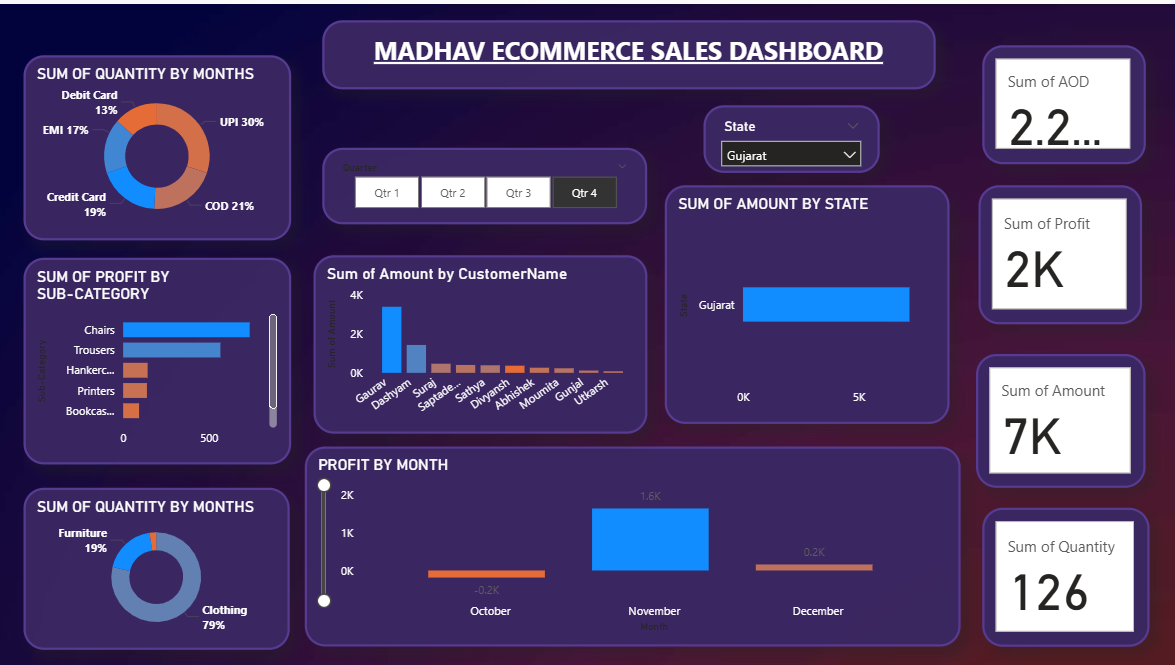

The page's visual inventory and layout, read from the dashboard file:
{"tool":"powerbi","page":{"name":"Page 1","canvas":[1280,720],"ordinal":0},"visuals":[{"type":"textbox","box":[362.3,17.8,660,74.1],"z":0},{"type":"columnChart","title":"PROFIT BY MONTH","fields":{"Category":["Orders(1).Order Date.Variation.Date Hierarchy.Month"],"Y":["details.Profit"]},"box":[343.1,476.2,705.3,215.4],"z":1000},{"type":"barChart","title":"SUM OF PROFIT BY SUB-CATEGORY","fields":{"Category":["details.Sub-Category"],"Y":["details.Profit"]},"box":[39.8,273.1,288.2,222.3],"z":2000},{"type":"donutChart","title":"SUM OF QUANTITY BY MONTHS","fields":{"Category":["details.Category"],"Y":["details.Quantity"]},"box":[39.8,520.1,286.8,174.3],"z":3000},{"type":"donutChart","title":"SUM OF QUANTITY BY MONTHS","fields":{"Category":["details.PaymentMode"],"Y":["details.Quantity"]},"box":[39.8,54.9,288.2,199],"z":4000},{"type":"cardVisual","fields":{"Data":["details.Amount"]},"box":[1064.8,376,182.5,144.1],"z":5000},{"type":"cardVisual","fields":{"Data":["details.Quantity"]},"box":[1071.7,542,179.8,149.6],"z":6000},{"type":"cardVisual","fields":{"Data":["details.Profit"]},"box":[1067.6,194.9,175.6,149.6],"z":7000},{"type":"cardVisual","fields":{"Data":["details.AOD"]},"box":[1071.7,43.9,175.6,127.6],"z":8000},{"type":"barChart","title":"SUM OF AMOUNT BY STATE","fields":{"Category":["Orders(1).State"],"Y":["details.Amount"]},"box":[730,194.9,306,256.6],"z":9000},{"type":"lineStackedColumnComboChart","fields":{"Category":["Orders(1).CustomerName"],"Y":["details.Amount"]},"box":[352.7,270.3,359.5,192.1],"z":10000},{"type":"slicer","fields":{"Values":["Orders(1).Order Date.Variation.Date Hierarchy.Quarter"]},"box":[362.3,155.1,349.9,82.3],"z":11000},{"type":"slicer","fields":{"Values":["Orders(1).State"]},"box":[772.6,108.4,189.4,72.7],"z":12000}]}

Visuals, with their boxes in screenshot pixels (x1, y1, x2, y2), scaled from the page's 1280x720 canvas onto the 1175x665 screenshot:
textbox: crop(333, 16, 938, 85)
"PROFIT BY MONTH" columnChart: crop(315, 440, 962, 639)
"SUM OF PROFIT BY SUB-CATEGORY" barChart: crop(37, 252, 301, 458)
"SUM OF QUANTITY BY MONTHS" donutChart: crop(37, 480, 300, 641)
"SUM OF QUANTITY BY MONTHS" donutChart: crop(37, 51, 301, 235)
cardVisual - details.Amount: crop(977, 347, 1145, 480)
cardVisual - details.Quantity: crop(984, 501, 1149, 639)
cardVisual - details.Profit: crop(980, 180, 1141, 318)
cardVisual - details.AOD: crop(984, 41, 1145, 158)
"SUM OF AMOUNT BY STATE" barChart: crop(670, 180, 951, 417)
lineStackedColumnComboChart - Orders(1).CustomerName x details.Amount: crop(324, 250, 654, 427)
slicer - Orders(1).Order Date.Variation.Date Hierarchy.Quarter: crop(333, 143, 654, 219)
slicer - Orders(1).State: crop(709, 100, 883, 167)
